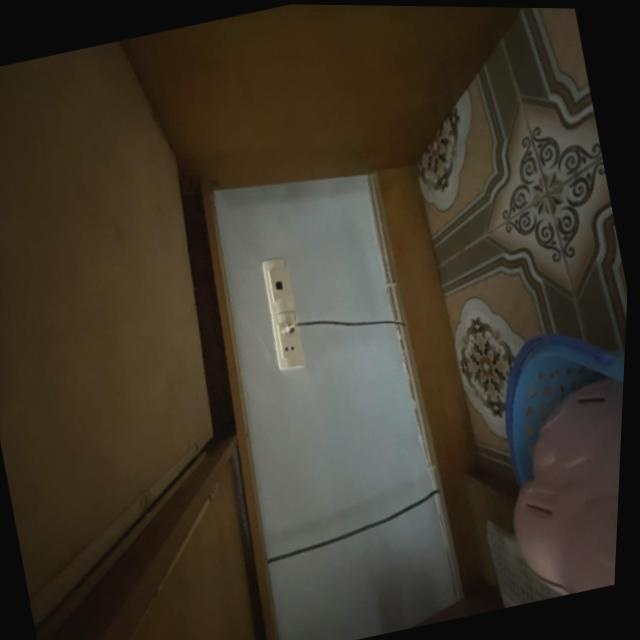outlet: (267, 309, 308, 371), (258, 255, 298, 314)
